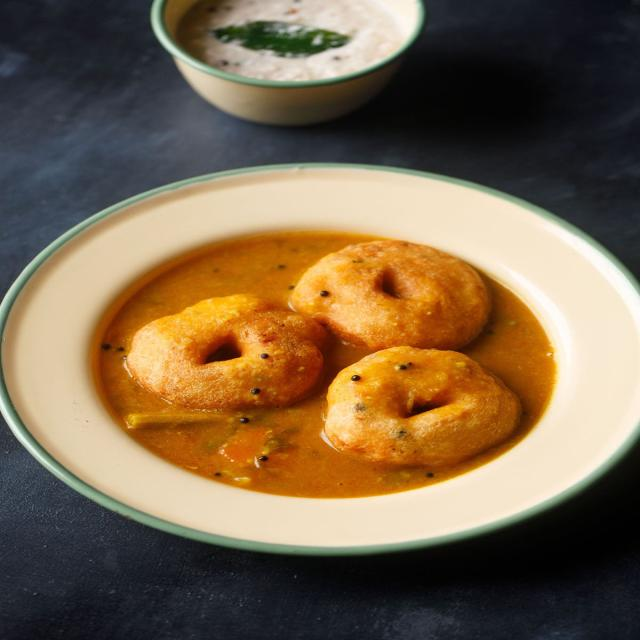MEDU VADA: (325, 346, 521, 466), (126, 295, 328, 410), (290, 239, 491, 350)
